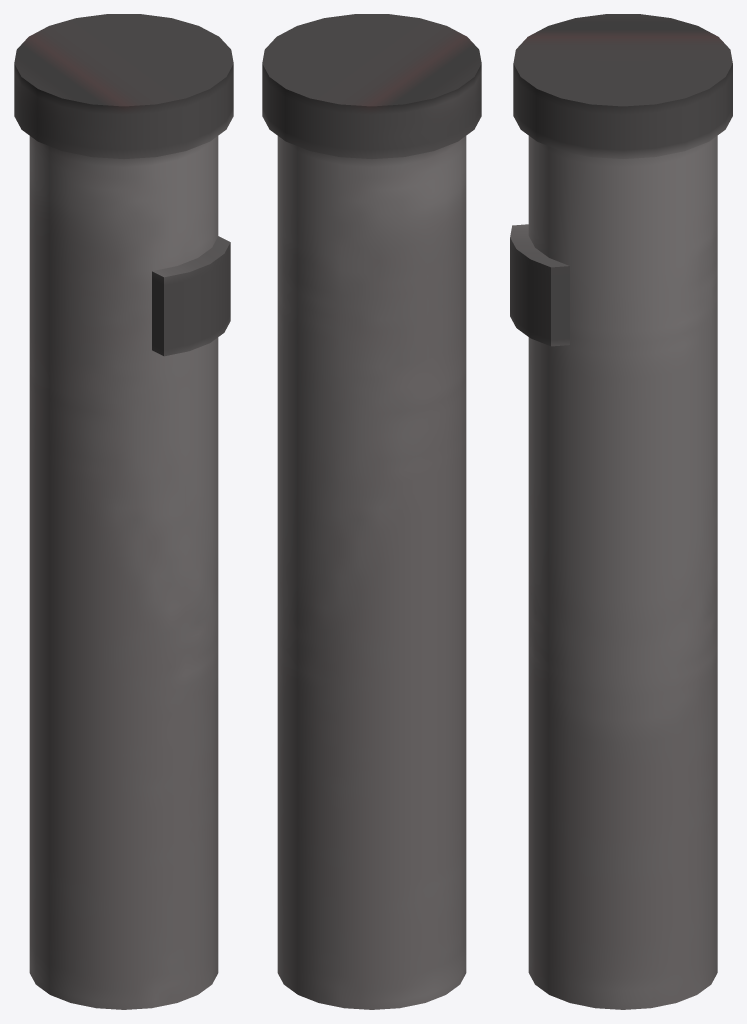
File: Transformer.fbx
3 renders of one model, left to right at view 1: azimuth 30°, elevation 25°; view 2: azimuth 150°, elevation 25°; view 3: azimuth 270°, elevation 25°, orthographic.
Visible parts, largest first — view 1: TelephoneTransformer; view 2: TelephoneTransformer; view 3: TelephoneTransformer.
Boxes of the visible parts, x1,y1,x2,y2 form: TelephoneTransformer: (14, 14, 233, 1009); TelephoneTransformer: (262, 14, 481, 1009); TelephoneTransformer: (510, 14, 732, 1009).
Bounding box in the file's own units: 90.74 × 416 × 92.39.
Materials: 1 (1 with a texture image).
